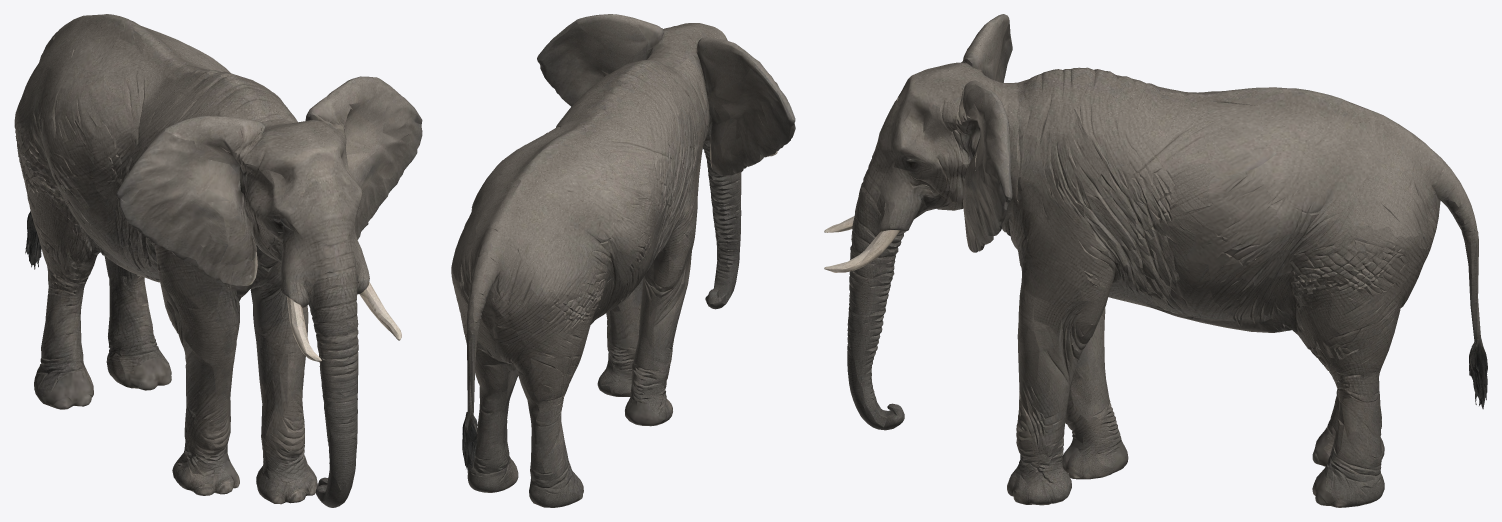
Rendered from elephant.glb.
The picture shows the model from 3 angles, left to right: view 1: azimuth 30°, elevation 25°; view 2: azimuth 150°, elevation 25°; view 3: azimuth 270°, elevation 25°; orthographic projection. The views are drawn at different scales.
Visible parts, largest first — view 1: Mesh_0; view 2: Mesh_0; view 3: Mesh_0.
Part boxes in pixels (x1,y1,x2,y2): Mesh_0: (14, 14, 422, 507); Mesh_0: (451, 14, 795, 507); Mesh_0: (824, 14, 1487, 507).
Bounding box in the file's own units: 1.01 × 1.32 × 1.87.
1 material, 1 textured.
